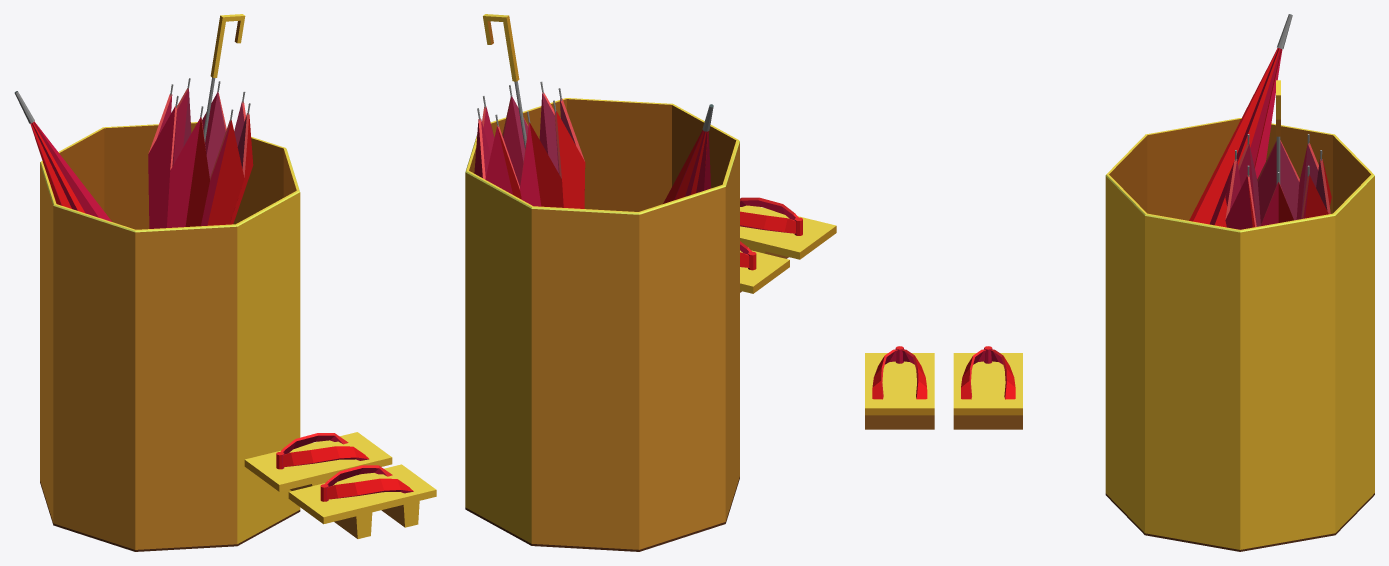
Rendered from Tongues + parapluie.fbx.
The picture shows the model from 3 angles, left to right: view 1: azimuth 30°, elevation 25°; view 2: azimuth 150°, elevation 25°; view 3: azimuth 270°, elevation 25°; orthographic projection. The views are drawn at different scales.
Visible parts, largest first — view 1: Porteparaplu, Parapluies, Togues; view 2: Porteparaplu, Parapluies, Togues; view 3: Porteparaplu, Parapluies, Togues.
Boxes of the visible parts, x1,y1,x2,y2 form: Porteparaplu: (40,122,300,551); Parapluies: (14,14,253,228); Togues: (244,432,436,538); Porteparaplu: (465,98,739,551); Parapluies: (474,14,713,208); Togues: (740,197,836,293); Porteparaplu: (1105,118,1374,551); Parapluies: (1189,14,1331,229); Togues: (865,346,1022,429).
Bounding box in the file's own units: 95.92 × 167 × 172.
